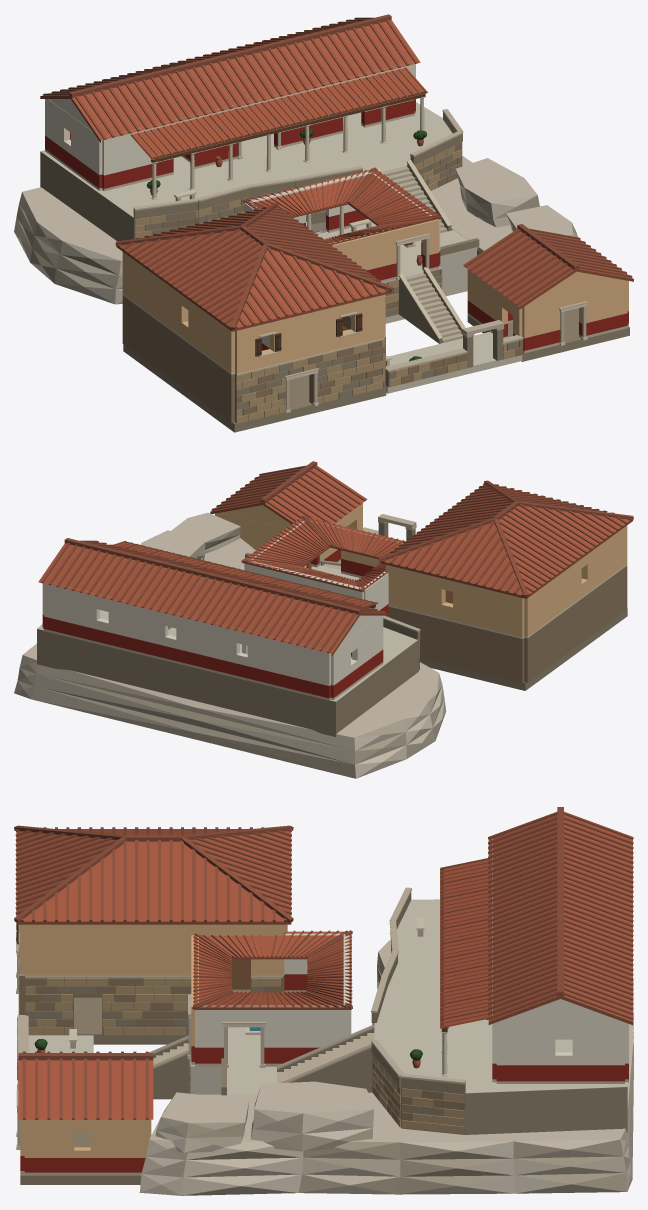
File: rome_domus_j.glb
3 renders of one model, top to bottom at view 1: azimuth 30°, elevation 25°; view 2: azimuth 150°, elevation 25°; view 3: azimuth 270°, elevation 25°, orthographic. The views are drawn at different scales.
Visible parts, largest first — view 1: rome_domus_j; view 2: rome_domus_j; view 3: rome_domus_j.
Part boxes in pixels (bbox=[...]): rome_domus_j: bbox=[14, 14, 633, 432]; rome_domus_j: bbox=[14, 461, 633, 778]; rome_domus_j: bbox=[14, 807, 633, 1195].
Bounding box in the file's own units: 31.82 × 11.27 × 33.94.
